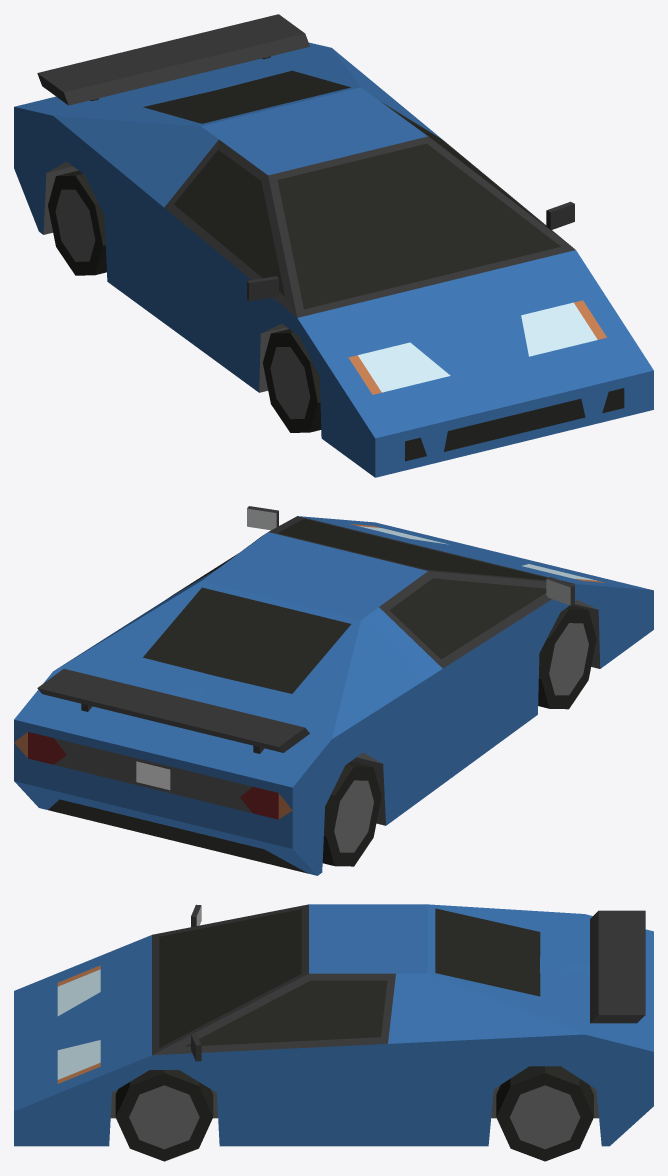
The model's file is Veh_Sports_Car_02_Blue.glb.
3 views of the same model, one above another, from view 1: azimuth 30°, elevation 25°; view 2: azimuth 150°, elevation 25°; view 3: azimuth 270°, elevation 25° (orthographic). The views are drawn at different scales.
Visible parts, largest first — view 1: Sports_Car_02_Blue, Wheel_RR, Wheel_FR; view 2: Sports_Car_02_Blue, Wheel_RR, Wheel_FR; view 3: Sports_Car_02_Blue, Wheel_RL, Wheel_FL.
Boxes of the visible parts, x1,y1,x2,y2 form: Sports_Car_02_Blue: (14, 14, 653, 477); Wheel_RR: (48, 170, 106, 275); Wheel_FR: (263, 329, 321, 432); Sports_Car_02_Blue: (14, 506, 653, 875); Wheel_RR: (322, 761, 381, 866); Wheel_FR: (538, 605, 596, 709); Sports_Car_02_Blue: (14, 904, 653, 1146); Wheel_RL: (496, 1066, 593, 1161); Wheel_FL: (115, 1070, 213, 1161).
Size of the model in its own units: 1.28 by 0.6906 by 2.47.
Materials: 1 (1 with a texture image).
